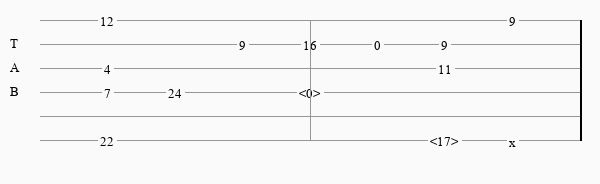0: (374, 38, 385, 51)
11: (438, 62, 456, 75)
12: (100, 14, 118, 27)
16: (303, 38, 321, 51)
22: (100, 134, 118, 147)
24: (168, 86, 186, 99)
4: (104, 62, 115, 75)
7: (104, 86, 115, 99)
9: (239, 38, 250, 51), (441, 38, 452, 51), (509, 14, 520, 27)
harmonic: (430, 134, 463, 147), (299, 86, 325, 99)
x: (509, 135, 520, 145)
